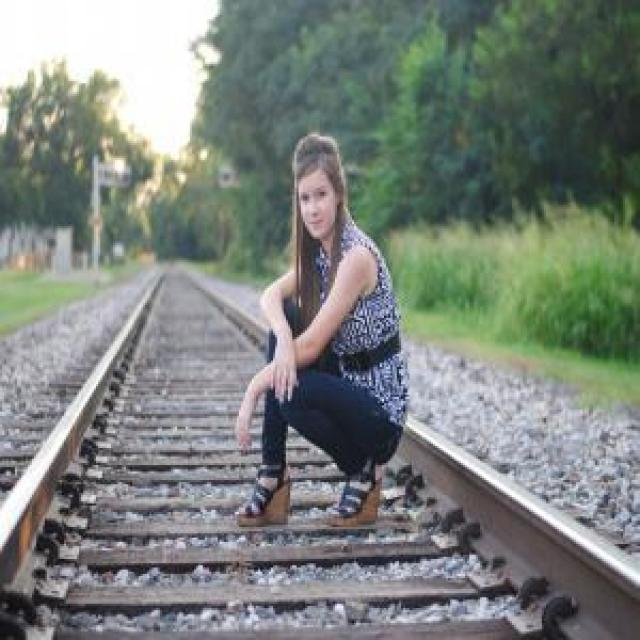danger: (230, 134, 412, 540)
rail: (179, 265, 640, 640), (0, 262, 178, 640)
